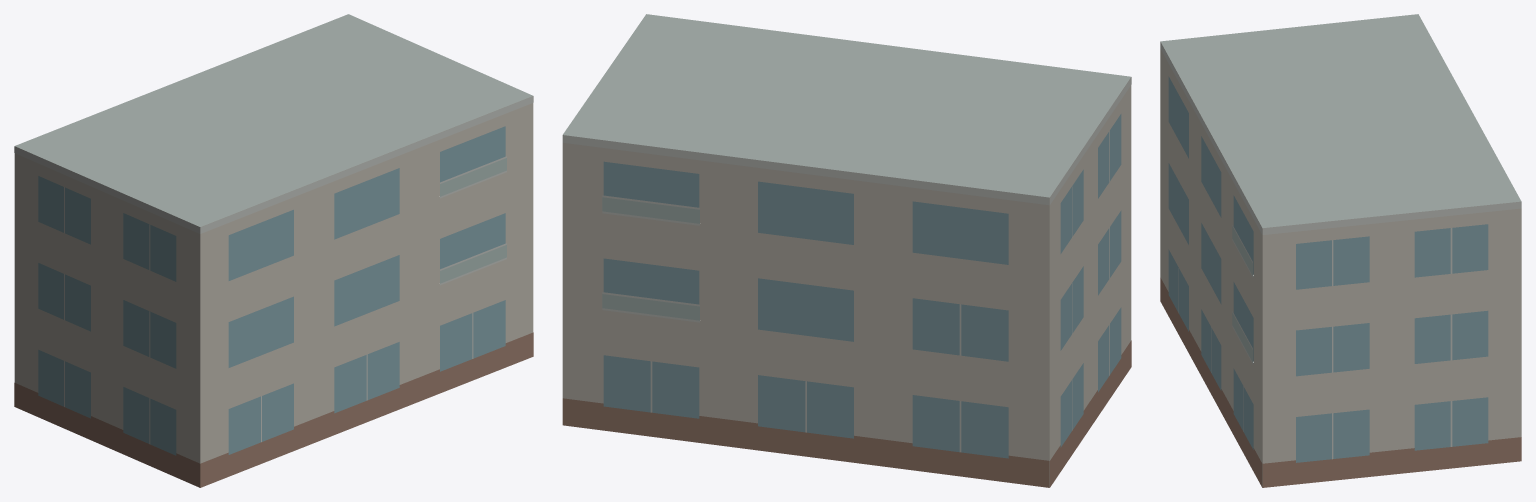
Rendered from survey-upis-32926105.glb.
3 views of the same model, side by side, from view 1: azimuth 30°, elevation 25°; view 2: azimuth 150°, elevation 25°; view 3: azimuth 270°, elevation 25° (orthographic). The views are drawn at different scales.
Parts seen in each view (by area): view 1: survey-upis-32926105.tmp; view 2: survey-upis-32926105.tmp; view 3: survey-upis-32926105.tmp.
Part boxes in pixels (x1,y1,x2,y2): survey-upis-32926105.tmp: [14, 14, 533, 487]; survey-upis-32926105.tmp: [562, 14, 1131, 487]; survey-upis-32926105.tmp: [1160, 14, 1521, 487].
Size of the model in its own units: 16.2 by 9.15 by 11.55.
